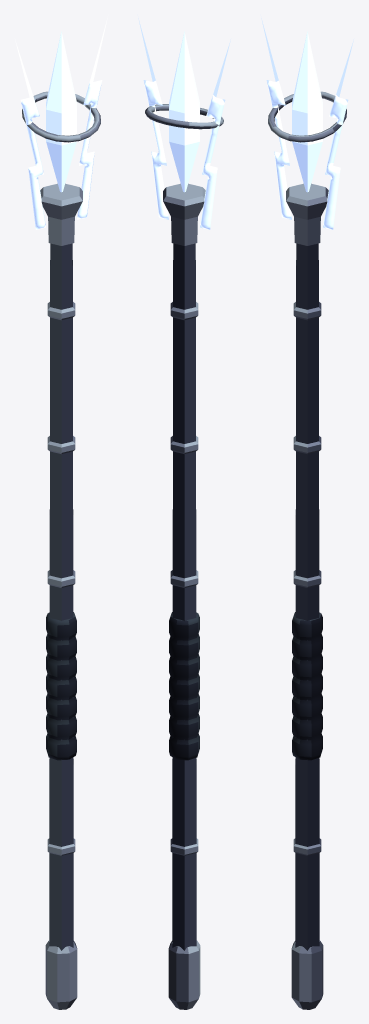
Rendered from st_storm_staff.glb.
The picture shows the model from 3 angles, left to right: view 1: azimuth 30°, elevation 25°; view 2: azimuth 150°, elevation 25°; view 3: azimuth 330°, elevation 25°; orthographic projection.
Visible parts, largest first — view 1: Weapon; view 2: Weapon; view 3: Weapon.
Part boxes in pixels (x1=…): Weapon: x1=15, y1=18, x2=107, y2=1009; Weapon: x1=138, y1=18, x2=230, y2=1009; Weapon: x1=261, y1=18, x2=353, y2=1009.
Bounding box in the file's own units: 0.184 × 1.83 × 0.1318.
